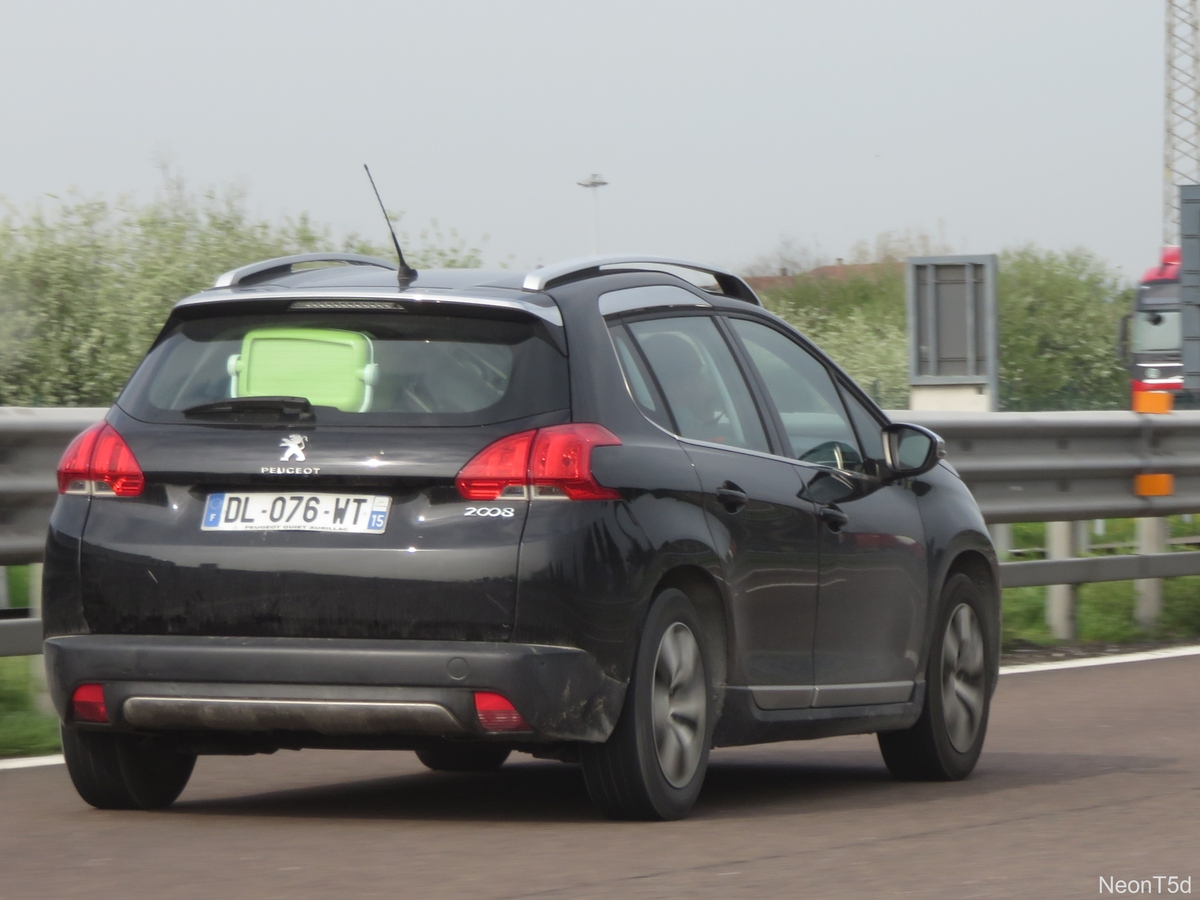licence plate: (198, 490, 391, 535)
